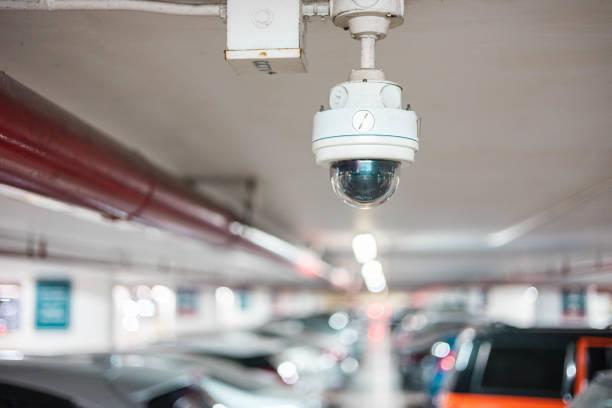camera: (306, 70, 425, 219)
